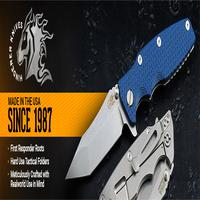knife: (64, 19, 192, 185)
